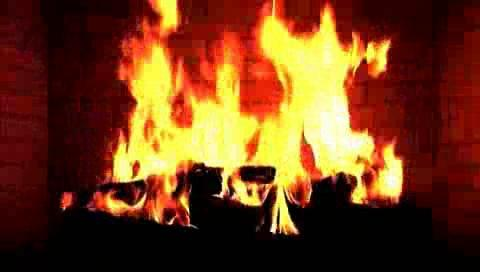fire: (121, 22, 370, 207)
